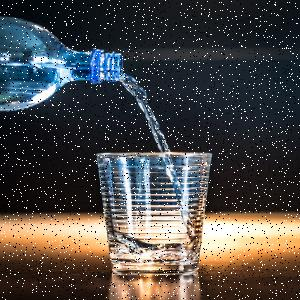Cup: (96, 153, 214, 277)
Plastic-bottle: (2, 18, 124, 112)
